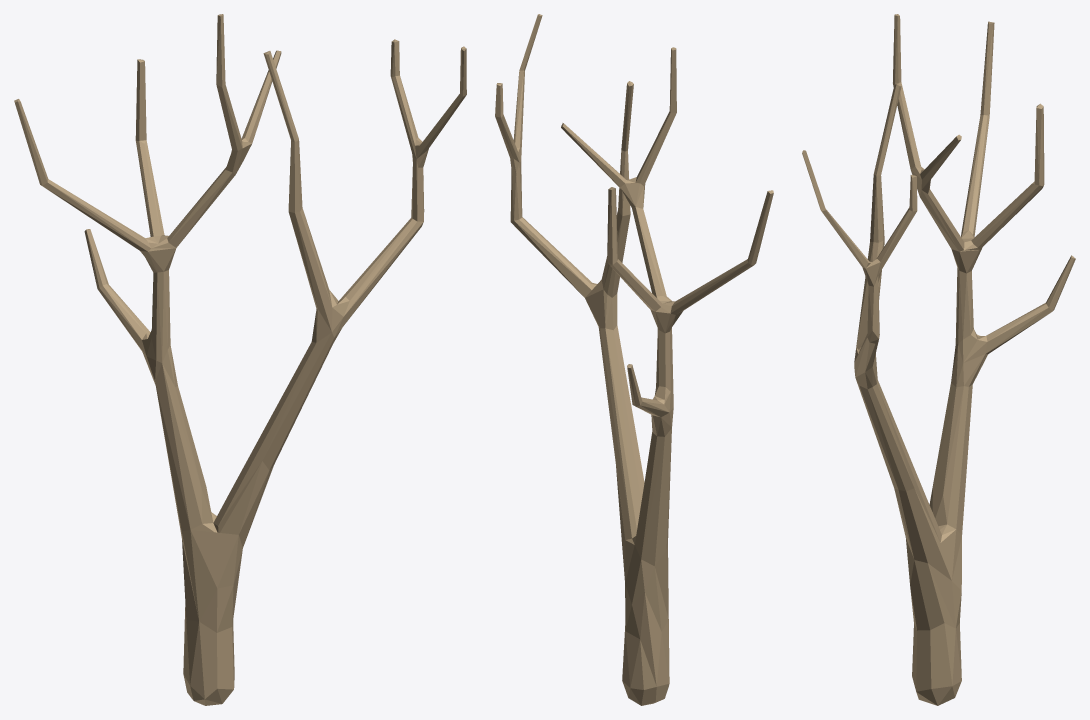
Rendered from LightWoodDecorationDeadTree1.fbx.
The picture shows the model from 3 angles, left to right: view 1: azimuth 30°, elevation 25°; view 2: azimuth 150°, elevation 25°; view 3: azimuth 270°, elevation 25°; orthographic projection. The views are drawn at different scales.
Visible parts, largest first — view 1: Branches-3; view 2: Branches-3; view 3: Branches-3.
Part boxes in pixels (<box>): Branches-3: <box>14,14,466,705</box>; Branches-3: <box>495,14,773,705</box>; Branches-3: <box>802,14,1075,705</box>.
Bounding box in the file's own units: 1325 × 2449 × 889.
